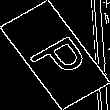P_NE: (19, 26, 91, 84)
